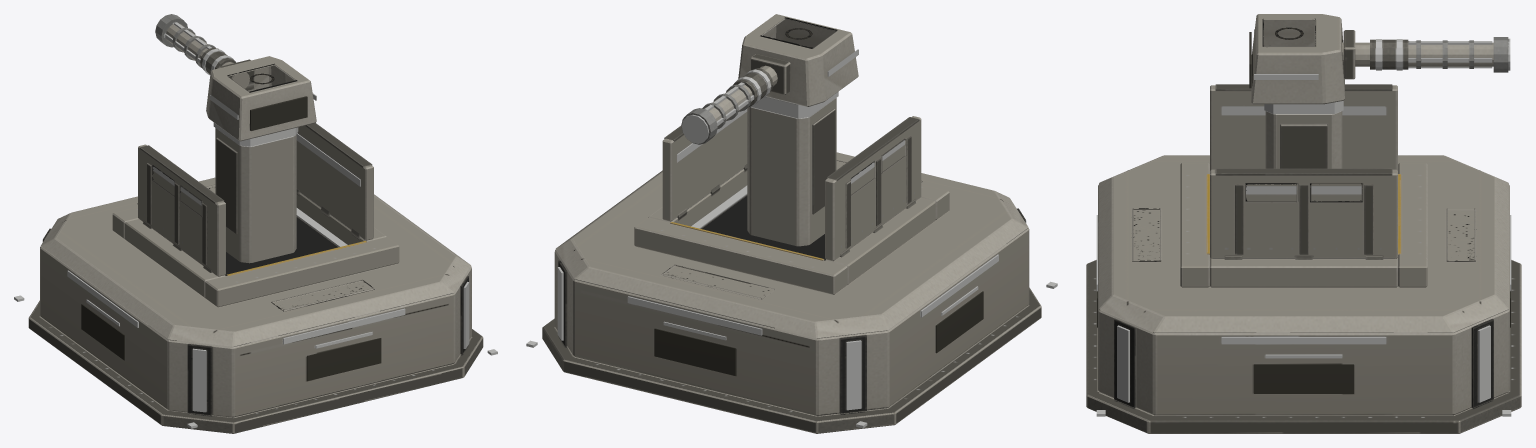
File: ord_radiance.fbx
3 renders of one model, left to right at view 1: azimuth 30°, elevation 25°; view 2: azimuth 150°, elevation 25°; view 3: azimuth 270°, elevation 25°, orthographic. The views are drawn at different scales.
Visible parts, largest first — view 1: base_bar, turret_bar, shell_bar, shellL_bar, shellR_bar, base_glow_power_bar, barrel_bar, turret_glow_power_bar, barrel_glow_weapon_bar, base_glow_running_bar, shellR_glow_power_bar; view 2: base_bar, turret_bar, shell_bar, shellL_bar, shellR_bar, base_glow_power_bar, barrel_bar, barrel_glow_weapon_bar, turret_glow_power_bar, base_glow_running_bar; view 3: base_bar, shellR_bar, shell_bar, turret_bar, shellL_bar, barrel_bar, base_glow_power_bar, barrel_glow_weapon_bar, shellR_glow_power_bar, turret_glow_power_bar, shellL_glow_power_bar, base_glow_running_bar.
Part boxes in pixels (x1=…): base_bar: x1=28, y1=177, x2=483, y2=433; turret_bar: x1=206, y1=56, x2=316, y2=263; shell_bar: x1=112, y1=188, x2=399, y2=307; shellL_bar: x1=138, y1=144, x2=225, y2=276; shellR_bar: x1=296, y1=123, x2=373, y2=240; base_glow_power_bar: x1=42, y1=208, x2=469, y2=412; barrel_bar: x1=155, y1=14, x2=249, y2=88; turret_glow_power_bar: x1=213, y1=122, x2=298, y2=146; barrel_glow_weapon_bar: x1=165, y1=22, x2=234, y2=75; base_glow_running_bar: x1=14, y1=295, x2=497, y2=428; shellR_glow_power_bar: x1=296, y1=133, x2=360, y2=186; base_bar: x1=542, y1=152, x2=1041, y2=433; turret_bar: x1=738, y1=14, x2=858, y2=246; shell_bar: x1=634, y1=164, x2=949, y2=294; shellL_bar: x1=825, y1=116, x2=921, y2=261; shellR_bar: x1=662, y1=112, x2=747, y2=221; base_glow_power_bar: x1=557, y1=185, x2=1026, y2=410; barrel_bar: x1=681, y1=65, x2=777, y2=144; barrel_glow_weapon_bar: x1=681, y1=69, x2=771, y2=143; turret_glow_power_bar: x1=750, y1=91, x2=838, y2=118; base_glow_running_bar: x1=526, y1=281, x2=1057, y2=428; base_bar: x1=1086, y1=155, x2=1521, y2=433; shellR_bar: x1=1210, y1=168, x2=1397, y2=258; shell_bar: x1=1180, y1=163, x2=1427, y2=287; turret_bar: x1=1249, y1=14, x2=1355, y2=168; shellL_bar: x1=1210, y1=84, x2=1397, y2=170; barrel_bar: x1=1342, y1=37, x2=1508, y2=72; base_glow_power_bar: x1=1096, y1=215, x2=1511, y2=402; barrel_glow_weapon_bar: x1=1376, y1=38, x2=1510, y2=70; shellR_glow_power_bar: x1=1246, y1=186, x2=1361, y2=194; turret_glow_power_bar: x1=1264, y1=101, x2=1343, y2=113; shellL_glow_power_bar: x1=1221, y1=107, x2=1386, y2=115; base_glow_running_bar: x1=1096, y1=354, x2=1511, y2=416.
Size of the model in its own units: 1480 by 1365 by 1480.
Materials: 2 (2 with a texture image).
